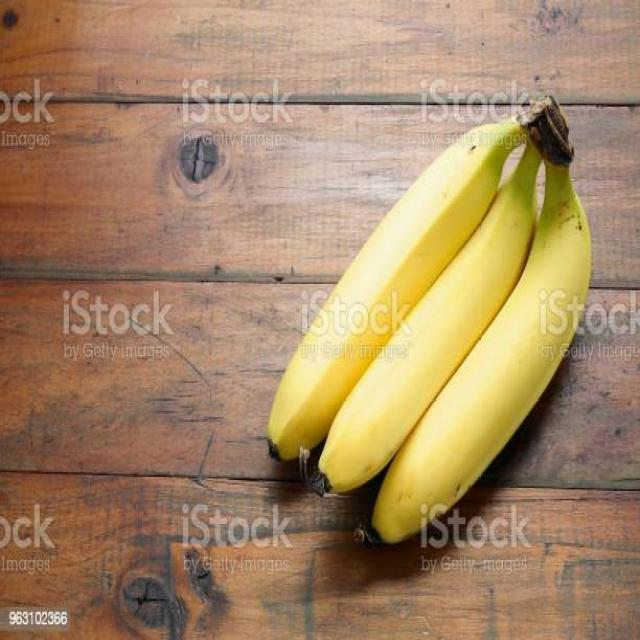Banana: (263, 80, 597, 554)
